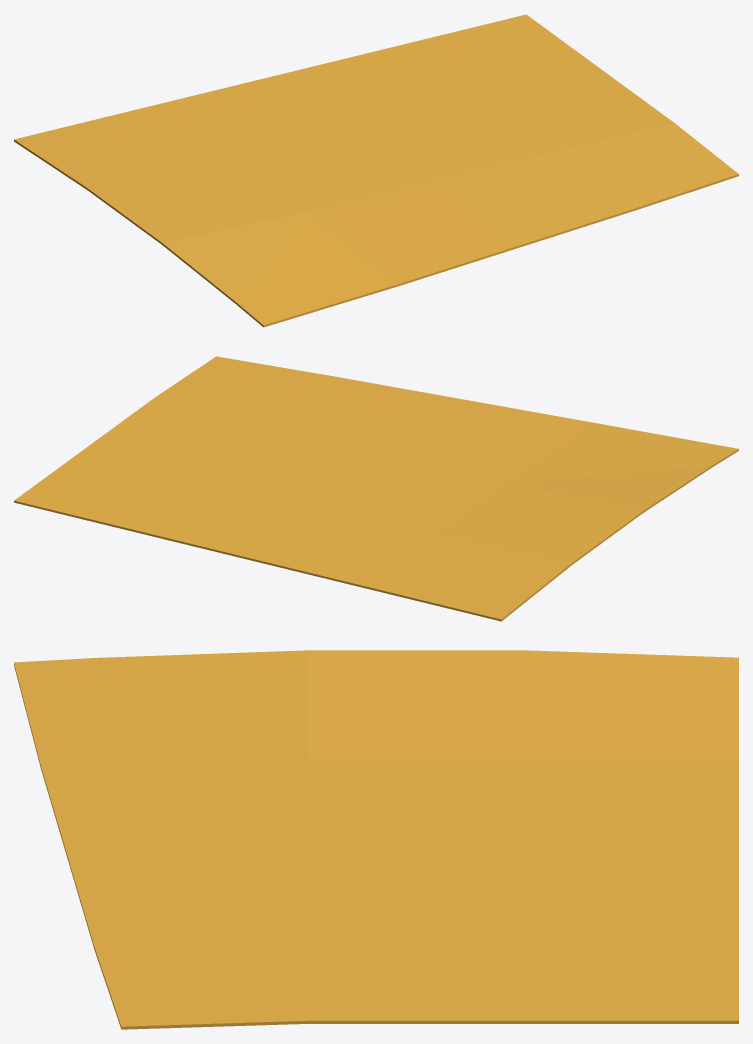
The picture shows the model from 3 angles, top to bottom: view 1: azimuth 30°, elevation 25°; view 2: azimuth 150°, elevation 25°; view 3: azimuth 270°, elevation 25°; orthographic projection. The views are drawn at different scales.
Parts seen in each view (by area): view 1: 01_street_base_plate-COL.046; view 2: 01_street_base_plate-COL.046; view 3: 01_street_base_plate-COL.046.
Boxes of the visible parts, bbox=[...] form: 01_street_base_plate-COL.046: bbox=[14, 14, 738, 327]; 01_street_base_plate-COL.046: bbox=[14, 356, 738, 621]; 01_street_base_plate-COL.046: bbox=[14, 650, 738, 1029].
Bounding box in the file's own units: 256 × 5.34 × 216.
